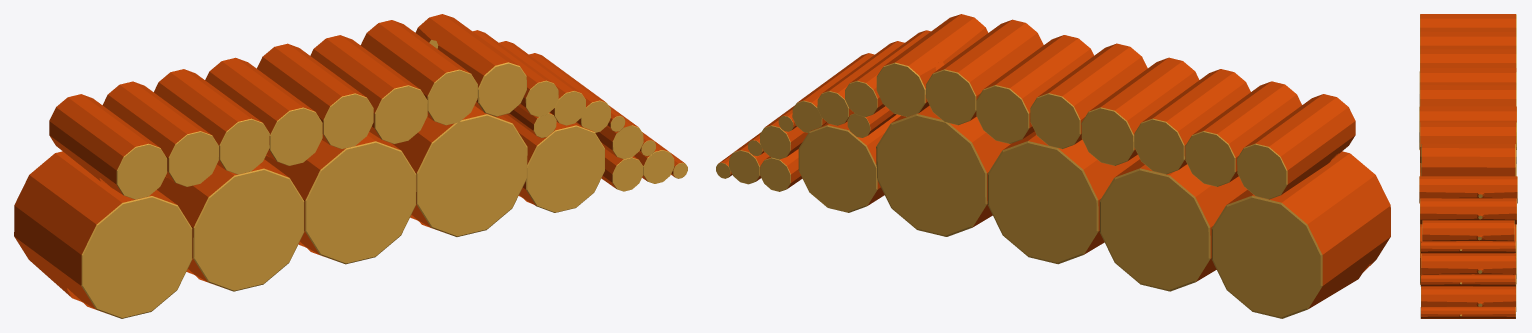
The model's file is holzhaufenLow.fbx.
3 renders of one model, left to right at view 1: azimuth 30°, elevation 25°; view 2: azimuth 150°, elevation 25°; view 3: azimuth 270°, elevation 25°, orthographic. The views are drawn at different scales.
Visible parts, largest first — view 1: holzhaufenLow; view 2: holzhaufenLow; view 3: holzhaufenLow.
Part boxes in pixels (x1,y1,x2,y2): holzhaufenLow: (14, 14, 687, 318); holzhaufenLow: (716, 14, 1390, 318); holzhaufenLow: (1419, 14, 1517, 318).
Bounding box in the file's own units: 353 × 1779 × 473.
